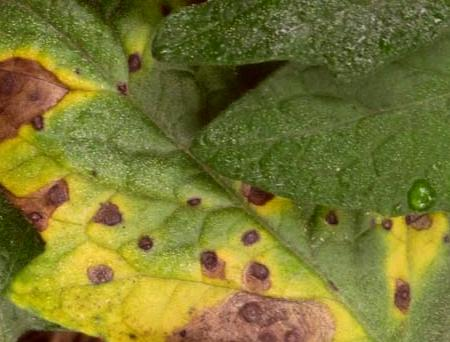Tomato Early blight leaf: (0, 0, 427, 342)
